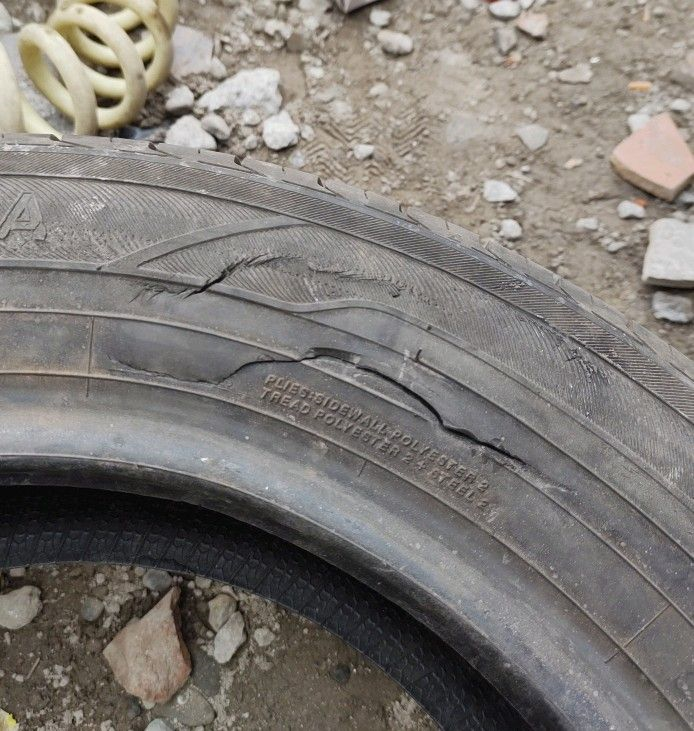cut: (106, 348, 533, 464), (143, 258, 290, 303)
